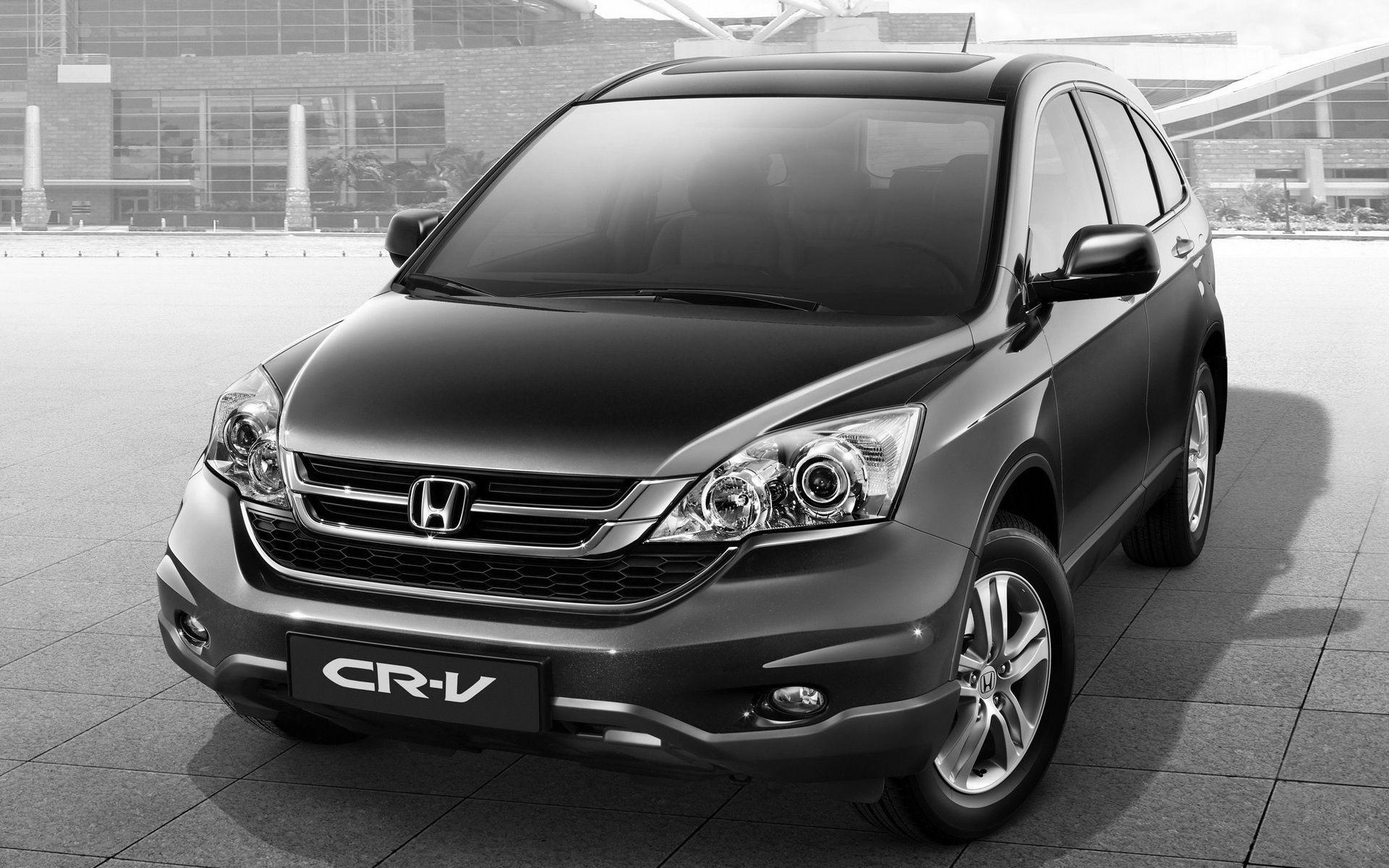Car hood: (256, 282, 981, 487)
Fender - -F-L-: (886, 257, 1066, 569)
Front bumper: (140, 509, 976, 781)
Headlight - -L-: (632, 396, 928, 562)
Headlight - -R-: (198, 357, 301, 513)
Passenger-s door - -F-L-: (1038, 73, 1151, 560)
Passenger-s door - -R-L-: (1105, 75, 1213, 540)
Side bumper - -L-: (1052, 437, 1200, 599)
Side mirror - -L-: (1028, 212, 1171, 323)
Side mirror - -R-: (364, 193, 452, 279)
